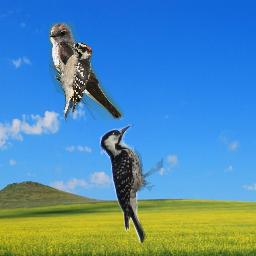Swallow: (49, 22, 124, 120)
Woodpecker: (99, 123, 163, 243), (54, 43, 93, 123)
